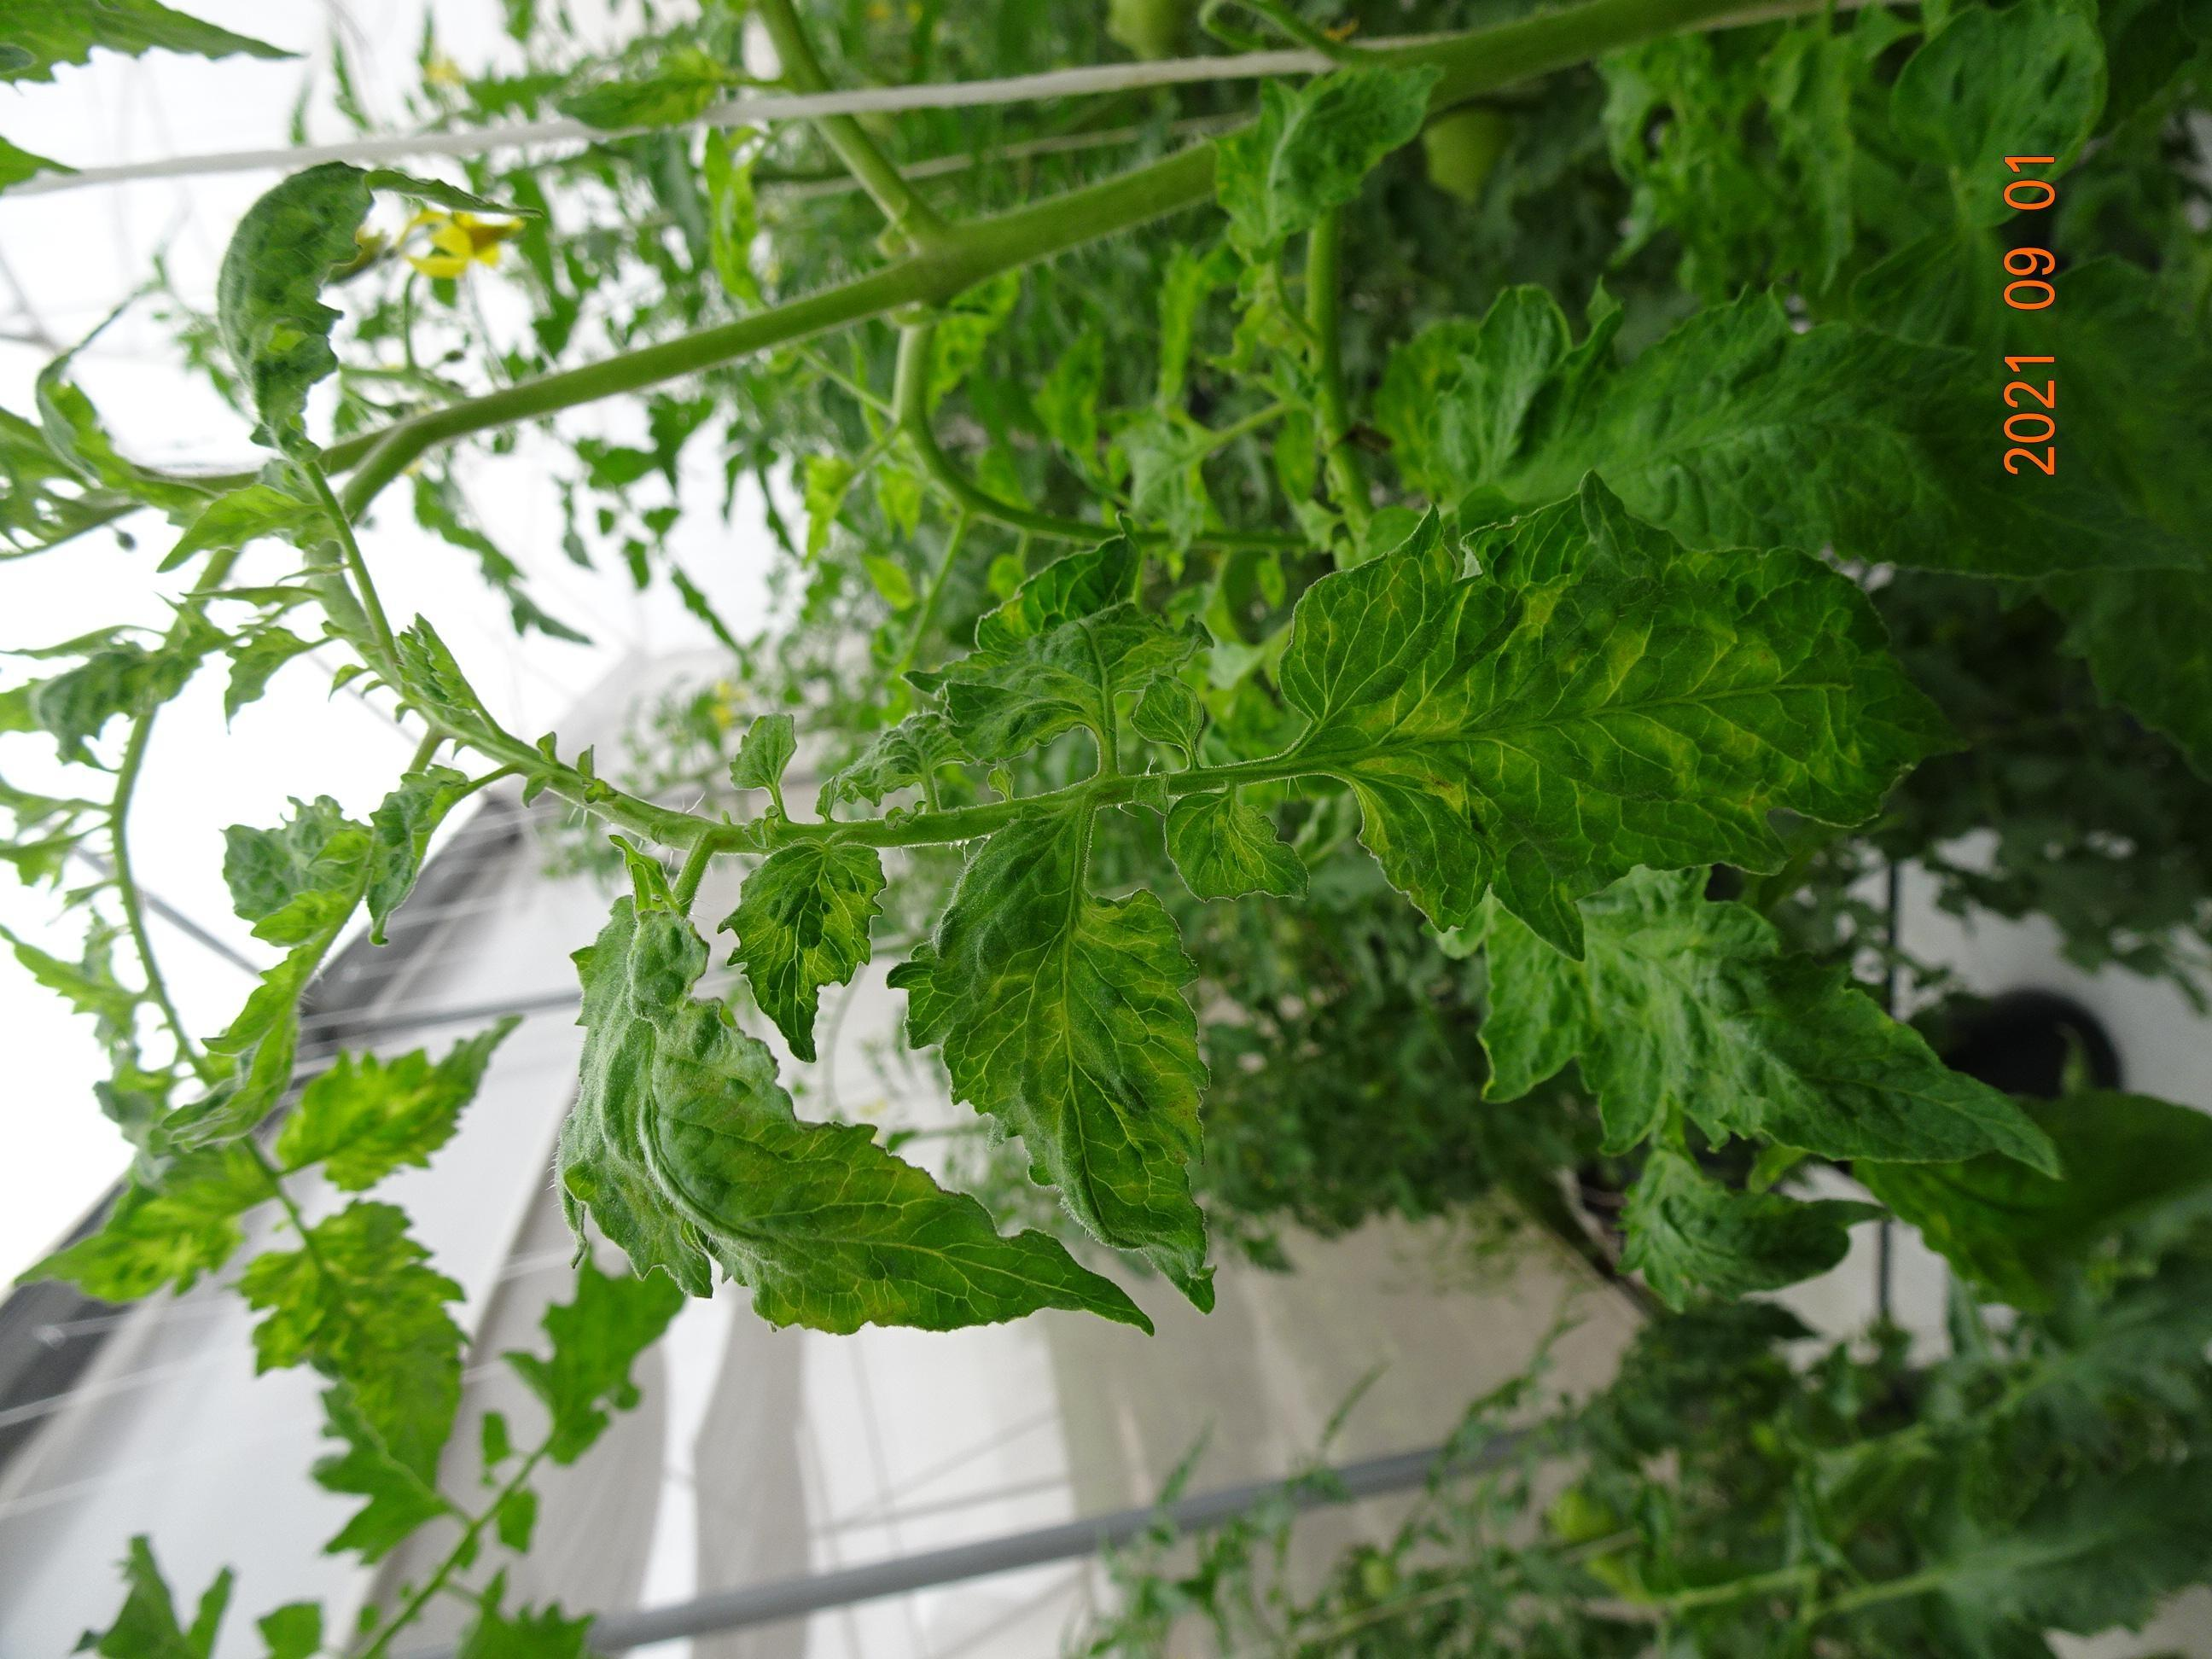Rugose leaf: (1261, 476, 1949, 958), (557, 850, 1136, 1331), (890, 803, 1211, 1309), (726, 842, 885, 1058)
